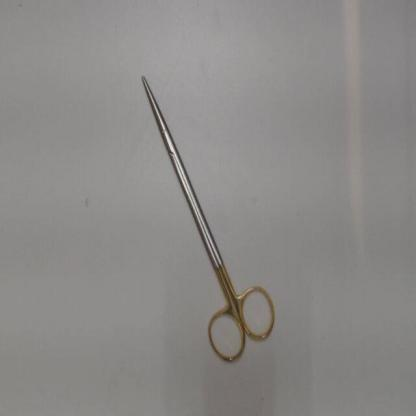7 Metzenbaum Scissors: (140, 73, 280, 368)
